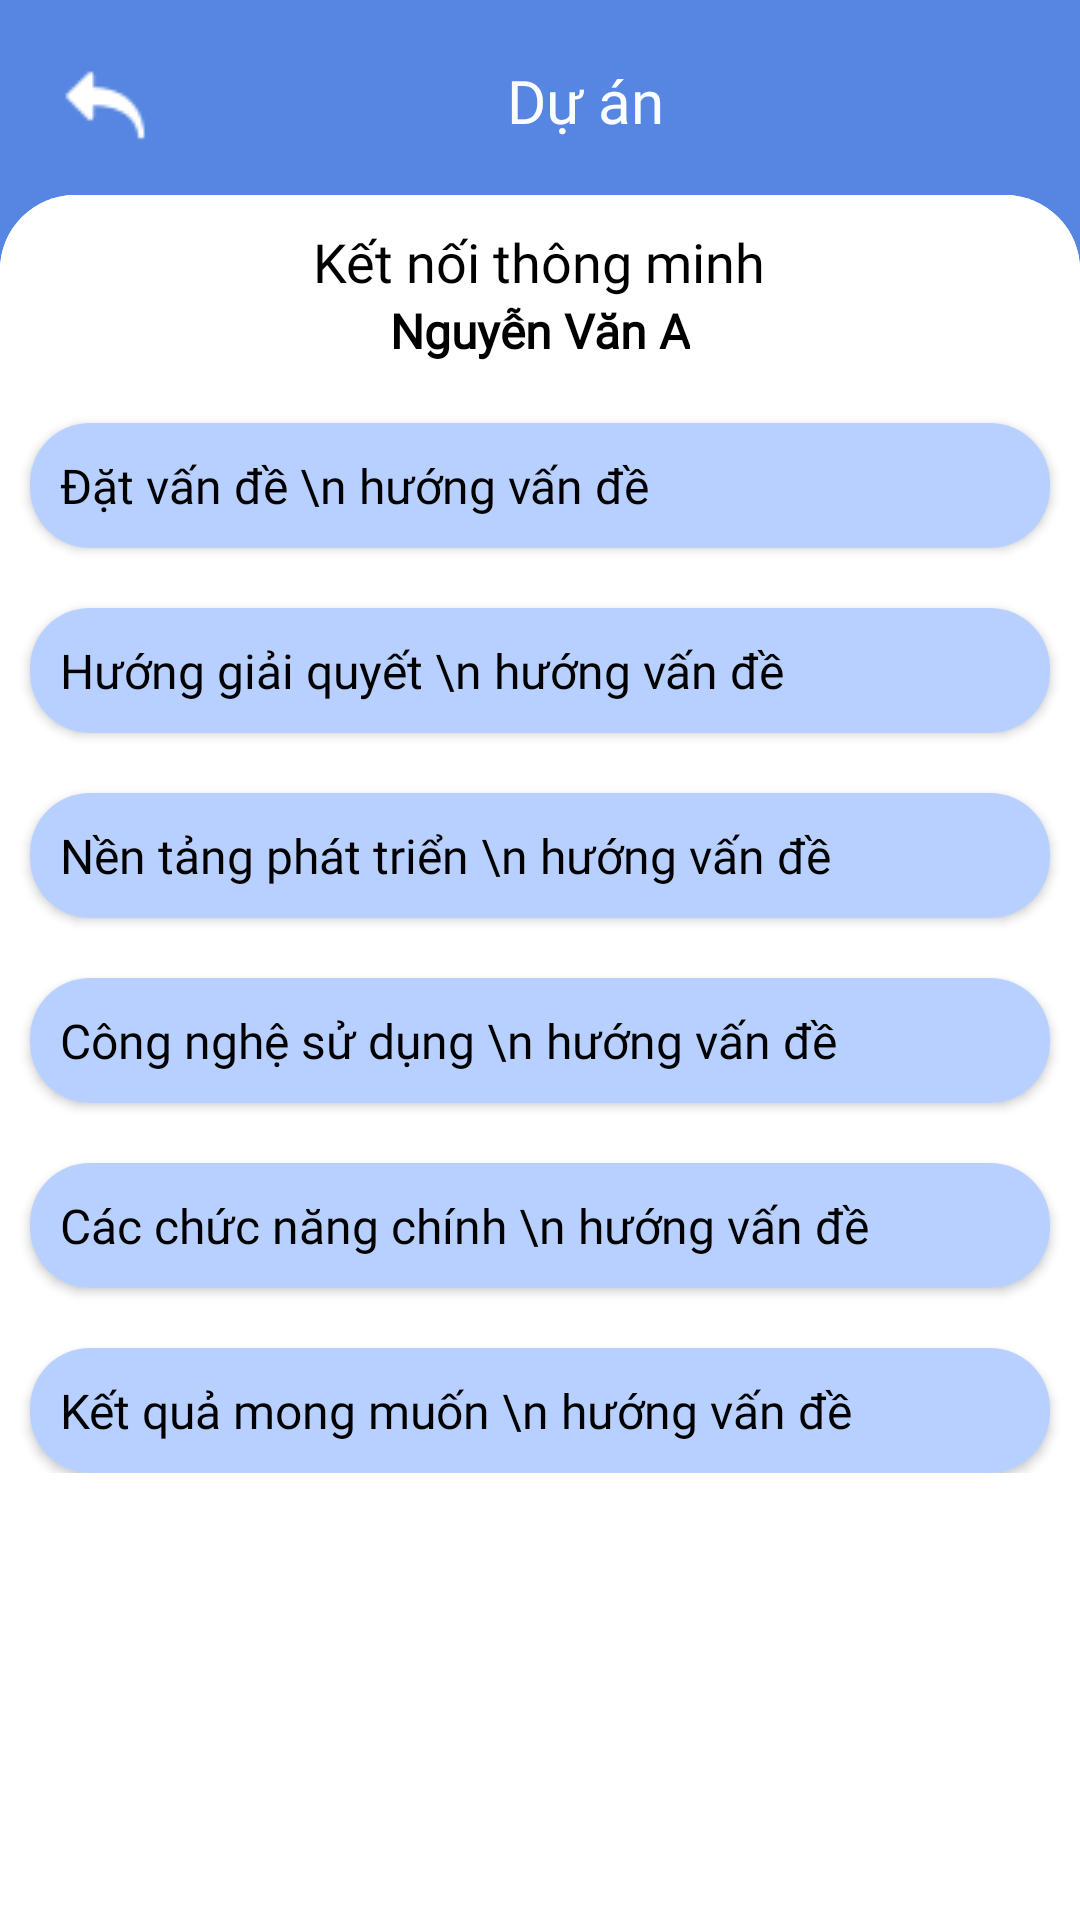

Icon click points for this 1080px×1920px phone screenshot, format [x,y]:
backarrow: [105,105]
